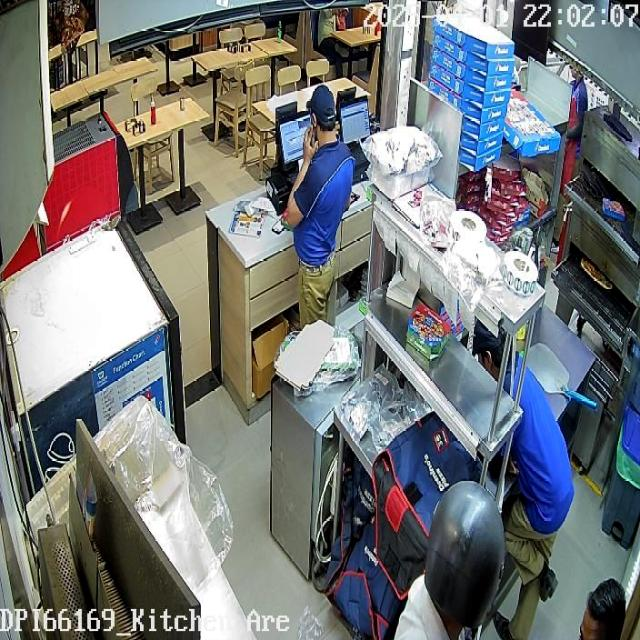helmet: (425, 480, 504, 627)
no_helmet: (578, 575, 627, 639), (306, 84, 337, 150)
